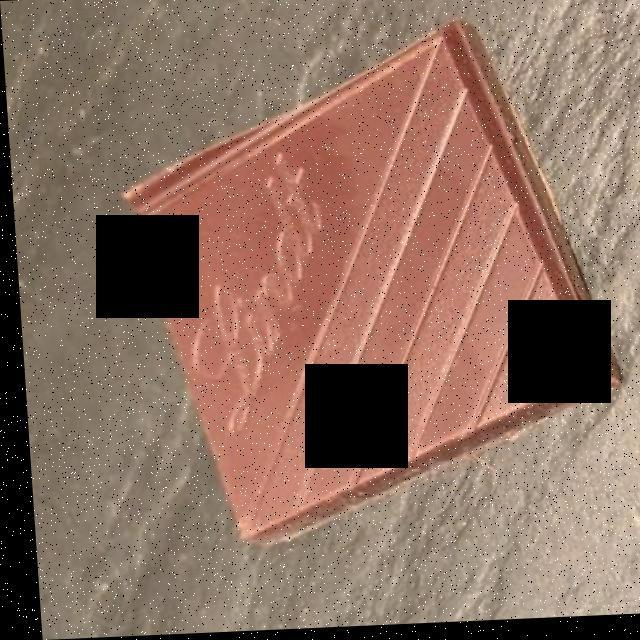chocolate: (108, 8, 610, 555), (129, 53, 602, 539)
